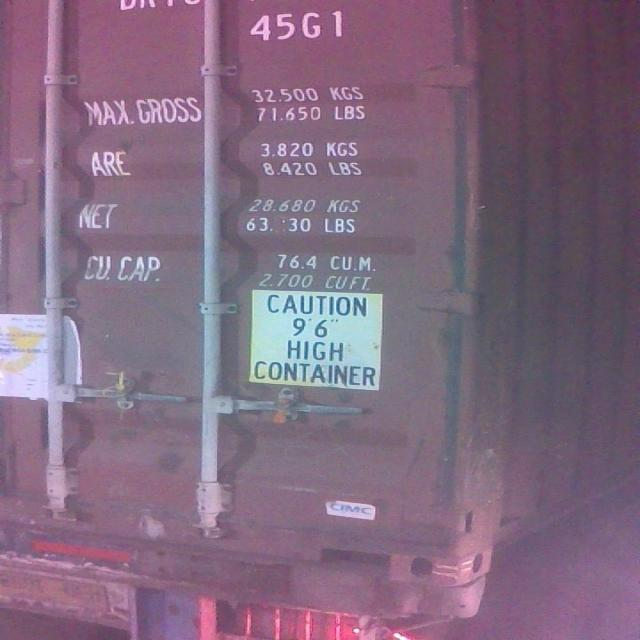seal: (267, 395, 299, 430), (105, 371, 133, 410)
